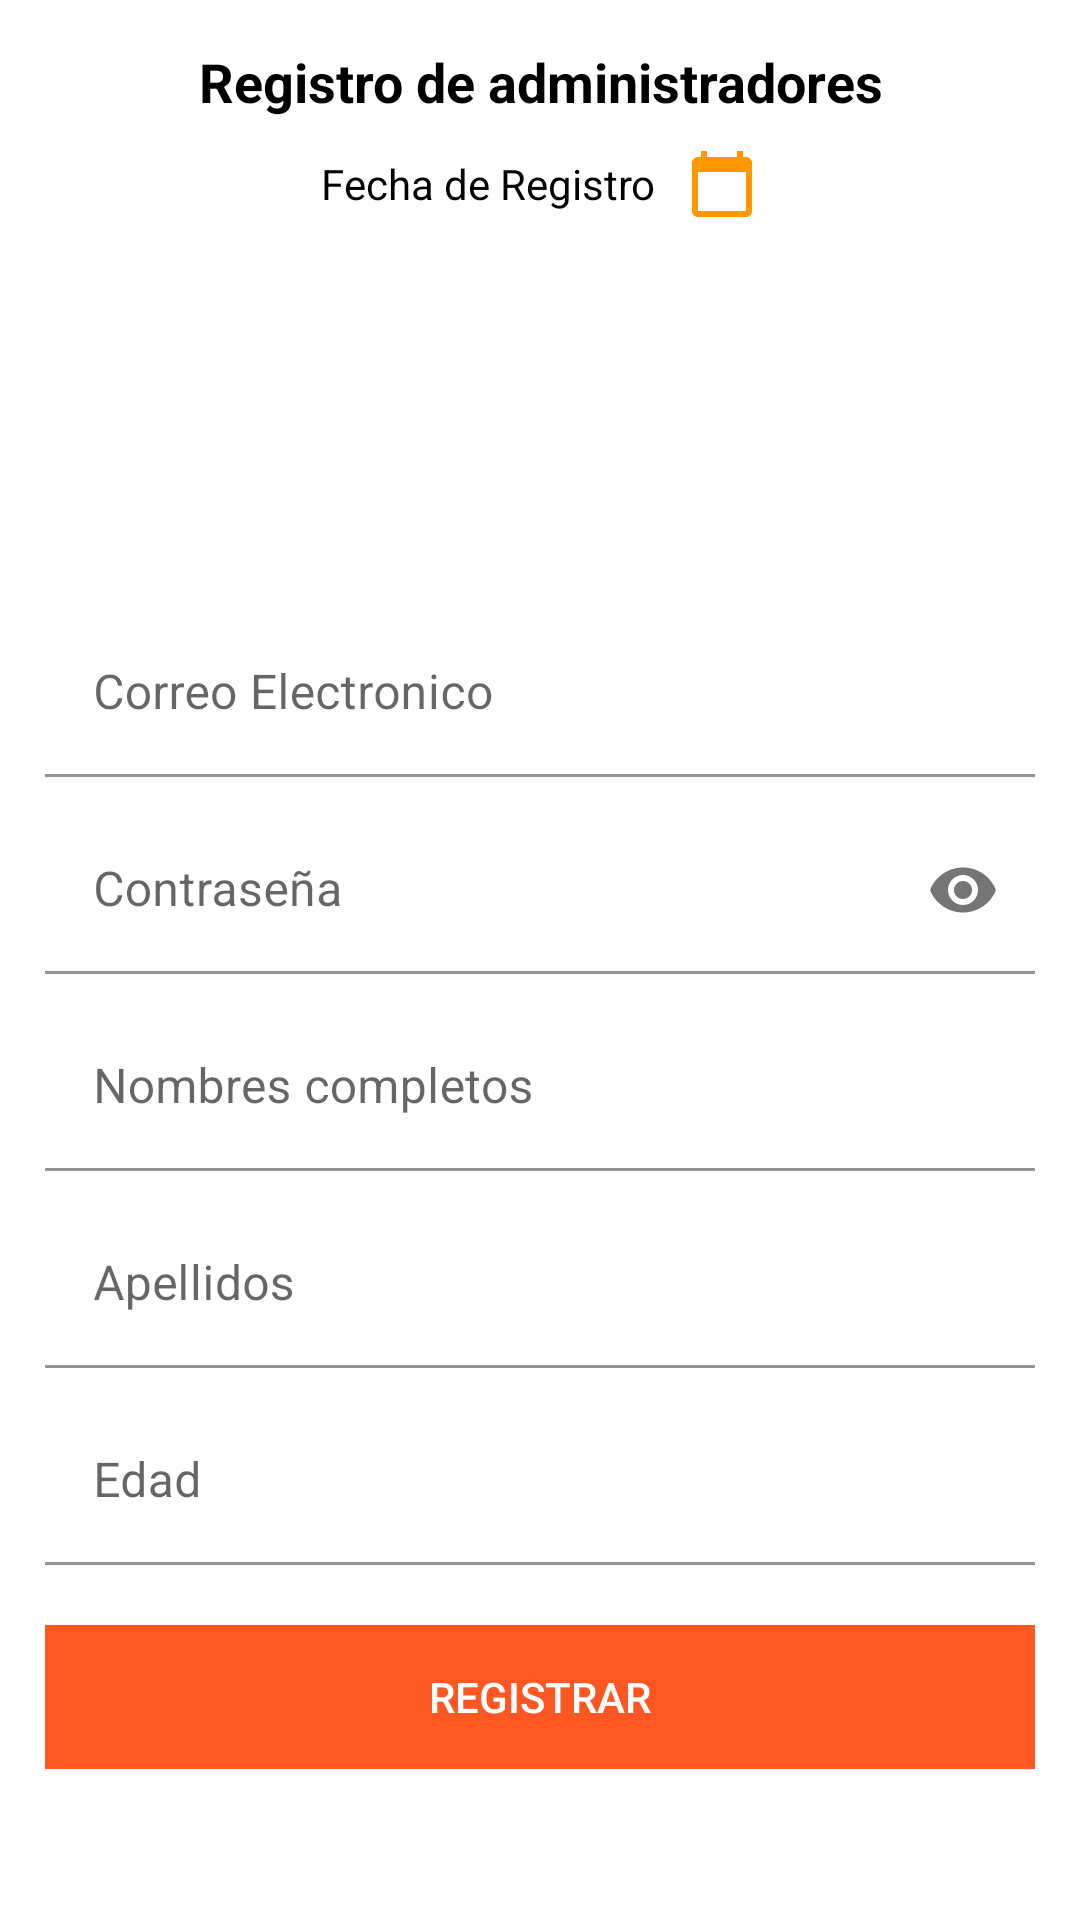

Icon click points for this 1080w x 1920h phone screenshot, format (x,y):
calendar: (722,184)
